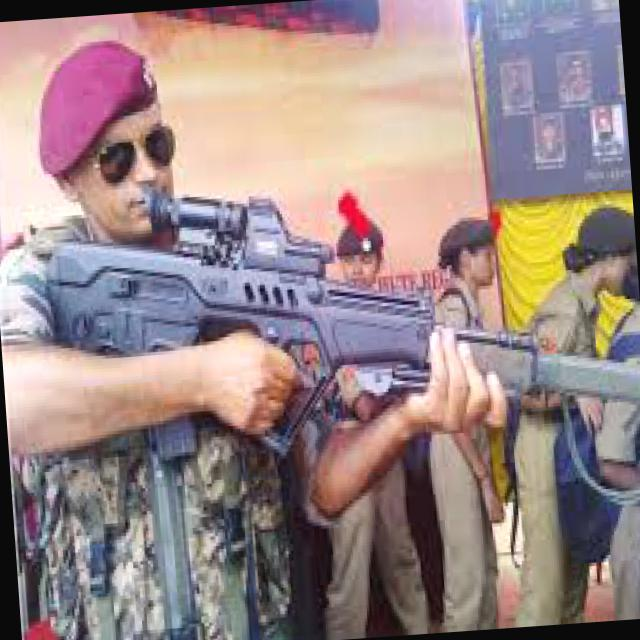long weapon: (31, 184, 639, 466)
